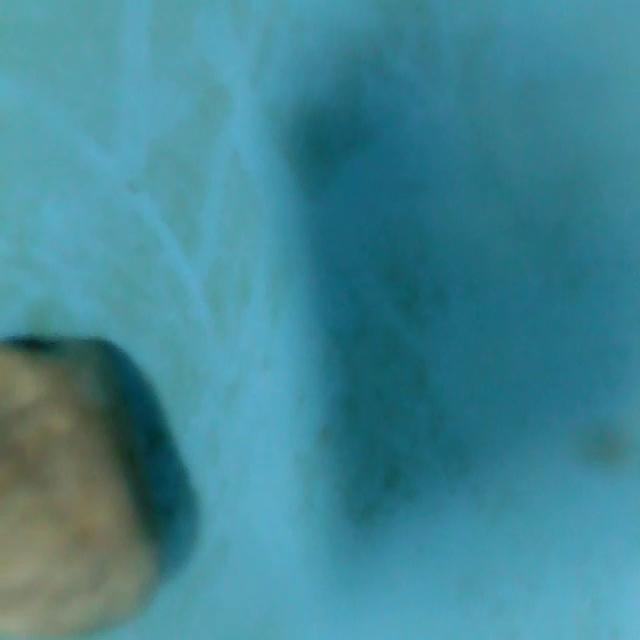rock: (1, 334, 175, 640)
